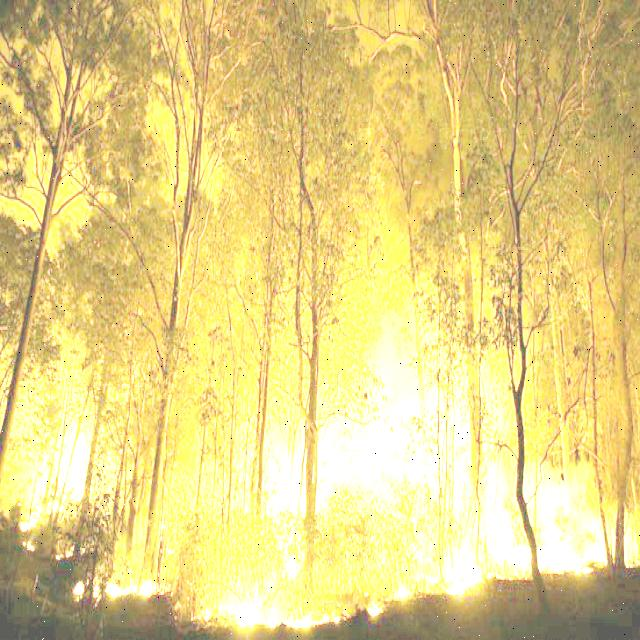api: (481, 504, 537, 578), (223, 593, 275, 638), (536, 530, 584, 578), (58, 426, 86, 494), (447, 550, 484, 598), (105, 573, 162, 603), (285, 614, 335, 628), (365, 593, 385, 623), (399, 574, 419, 602)
asap: (540, 448, 602, 528)
